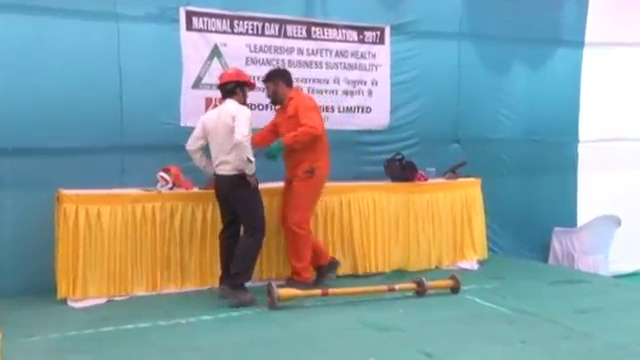helmet: (216, 66, 256, 91)
helmet_off: (263, 67, 293, 107)
helmet_on: (213, 66, 257, 105)
person: (252, 66, 341, 289), (186, 66, 268, 307)
